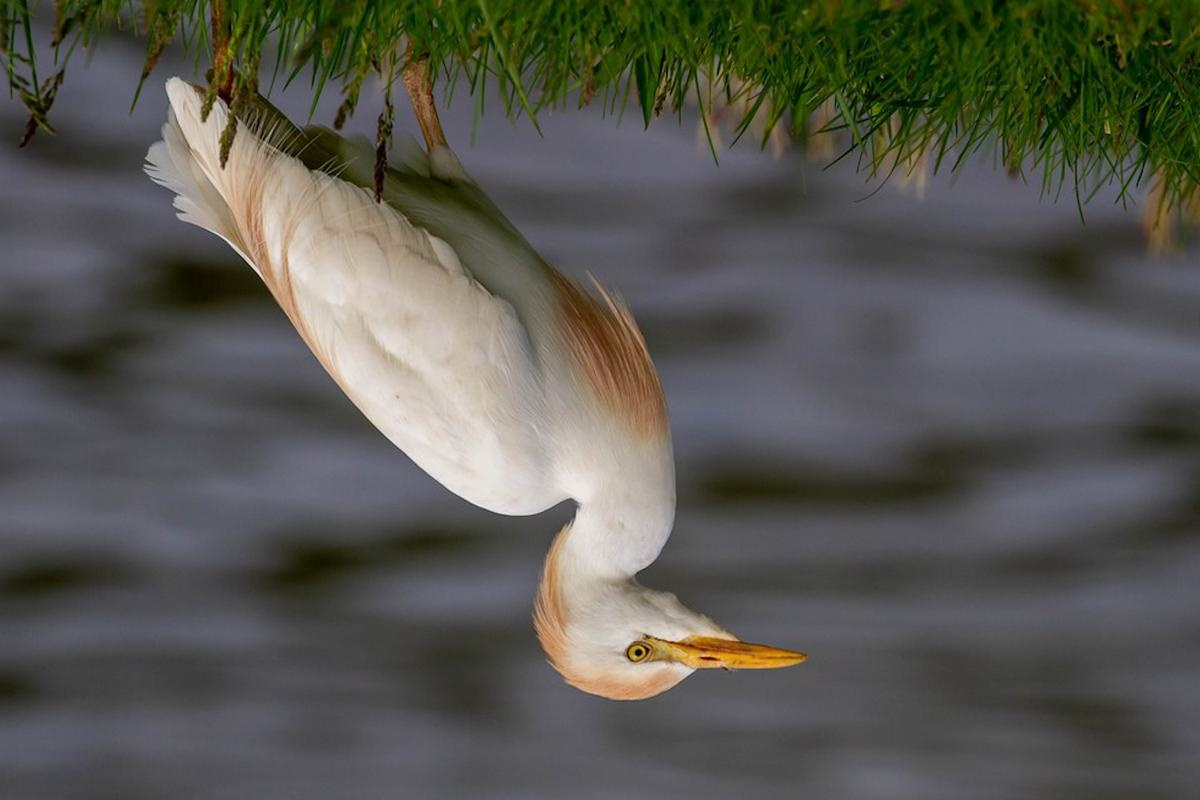egret: (130, 72, 811, 740)
